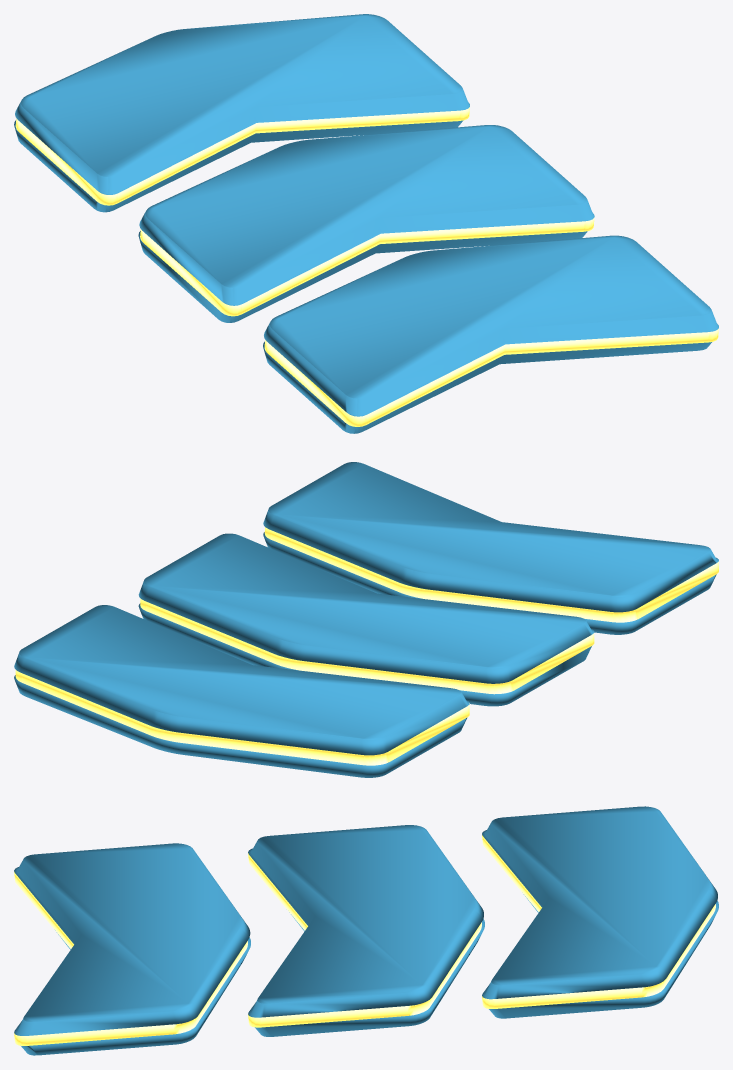
Rendered from direction_arrows.glb.
3 views of the same model, one above another, from view 1: azimuth 30°, elevation 25°; view 2: azimuth 150°, elevation 25°; view 3: azimuth 270°, elevation 25° (orthographic). The views are drawn at different scales.
Visible parts, largest first — view 1: A1.002_Principal color_0; view 2: A1.002_Principal color_0; view 3: A1.002_Principal color_0.
Boxes of the visible parts, x1=… form: A1.002_Principal color_0: x1=14, y1=14, x2=718, y2=433; A1.002_Principal color_0: x1=14, y1=462, x2=718, y2=777; A1.002_Principal color_0: x1=14, y1=806, x2=718, y2=1055.
Size of the model in its own units: 0.7393 by 0.1796 by 1.3.
